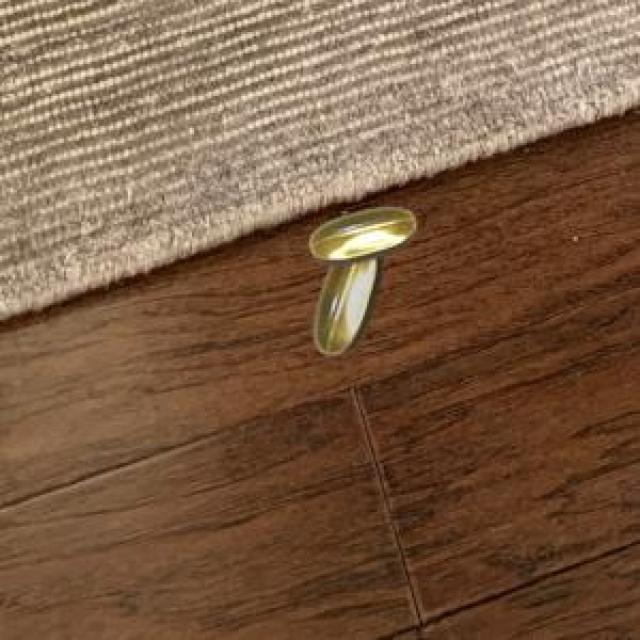Fish_Oil: (295, 192, 429, 365)
